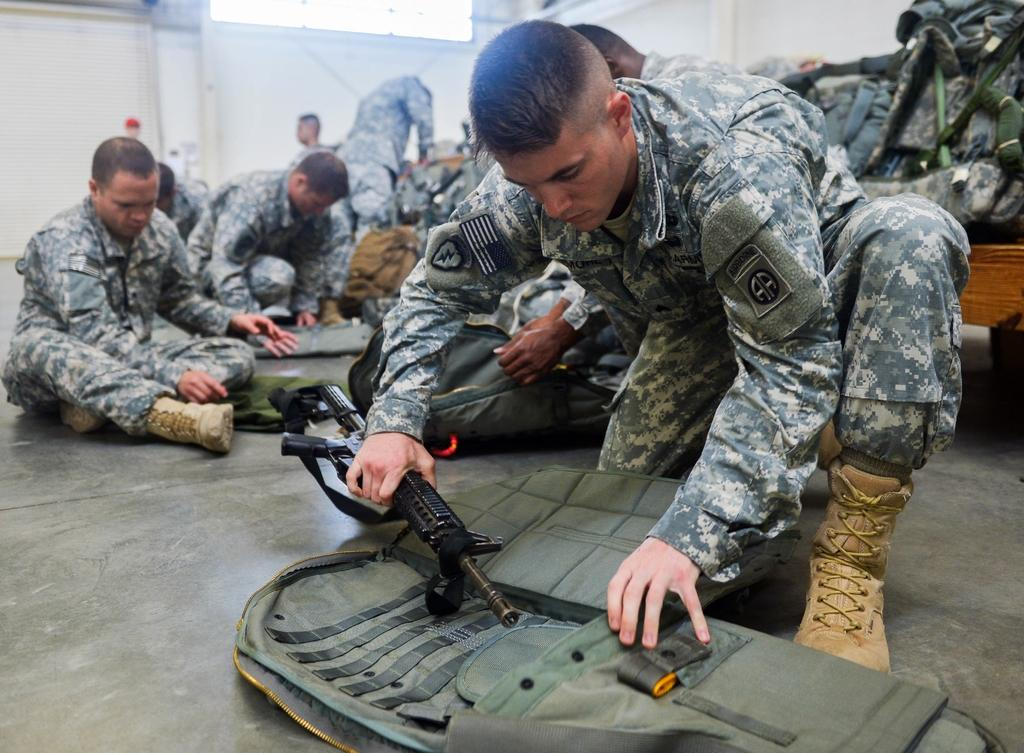Rifle: (249, 413, 602, 638)
